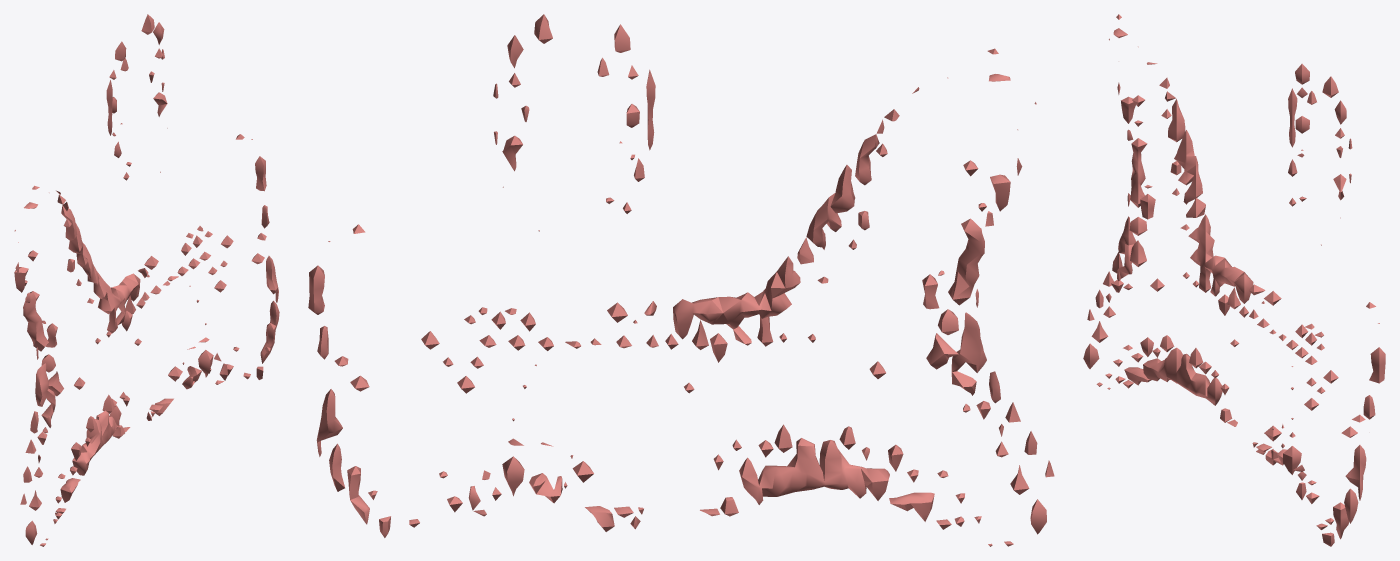
Rendered from envelope.classical.dcfs.+.glb.
3 views of the same model, side by side, from view 1: azimuth 30°, elevation 25°; view 2: azimuth 150°, elevation 25°; view 3: azimuth 270°, elevation 25° (orthographic). The views are drawn at different scales.
Parts seen in each view (by area): view 1: envelope.classical.dcfs.+; view 2: envelope.classical.dcfs.+; view 3: envelope.classical.dcfs.+.
Part boxes in pixels (x1=…): envelope.classical.dcfs.+: x1=14, y1=14, x2=279, y2=546; envelope.classical.dcfs.+: x1=308, y1=14, x2=1054, y2=546; envelope.classical.dcfs.+: x1=1083, y1=14, x2=1385, y2=546.
Bounding box in the file's own units: 9.75 × 9.64 × 6.27.
